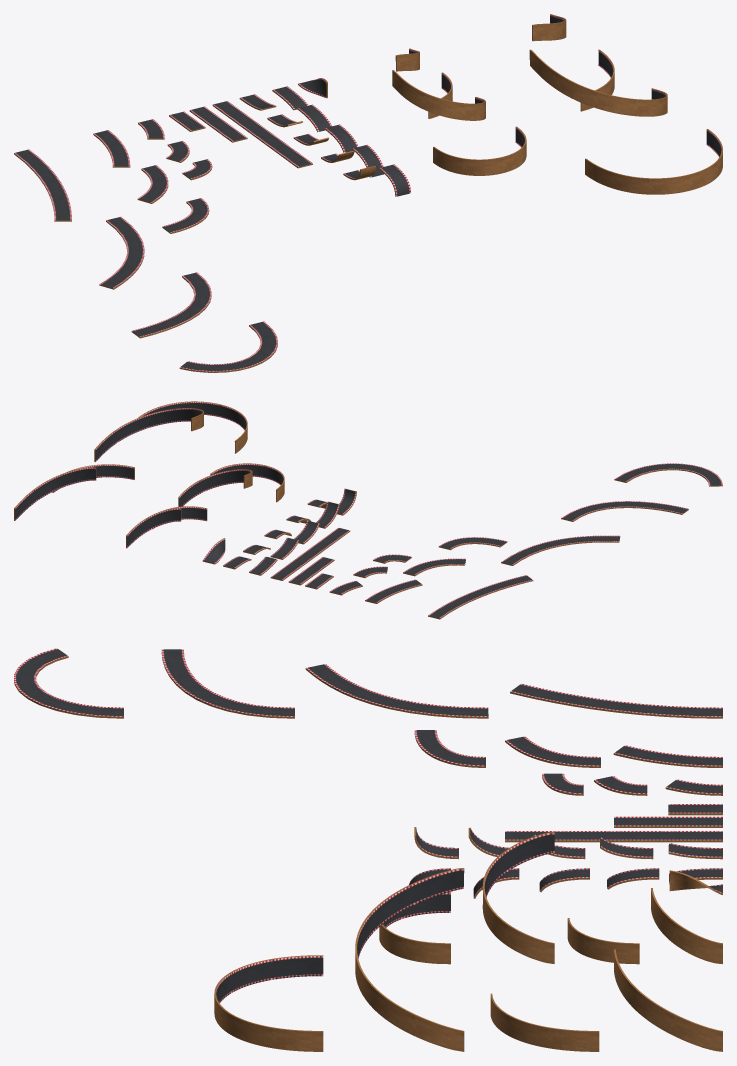
Rendered from low_poly_modular_roads.glb.
3 views of the same model, one above another, from view 1: azimuth 30°, elevation 25°; view 2: azimuth 150°, elevation 25°; view 3: azimuth 270°, elevation 25° (orthographic). The views are drawn at different scales.
Parts seen in each view (by area): view 1: Road Twist Large 180, Road Twist Up Large 180, Road Twist 180, Road Twist Up 180, Road Corner Long 4, Road Flat Long, Road Corner Long 3, Road Corner Long 2, Road Corner Long 1, Road Flat Medium, Road Corner Medium 3, Road Corner Medium 2 (+2 smaller); view 2: Road Twist Up Large 180, Road Twist Up Large 90, Road Twist Large 180, Road Twist Up 180, Road Corner Long 3, Road Corner Long 2, Road Corner Long 4, Road Corner Long 1, Road Flat Long, Road Twist Up 90, Road Twist 180, Road Twist Large 90 (+5 smaller); view 3: Road Twist Up Large 180, Road Twist Large 180, Road Twist Up 180, Road Twist Up Large 90, Road Corner Long 1, Road Corner Long 2, Road Twist 180, Road Twist Large 90, Road Corner Long 4, Road Corner Long 3, Road Flat Long, Road Twist Up 90 (+11 smaller).
Part boxes in pixels (x1,y1,x2,y2): Road Twist Large 180: (585,129,722,194); Road Twist Up Large 180: (529,49,667,116); Road Twist 180: (433,126,526,175); Road Twist Up 180: (392,70,485,120); Road Corner Long 4: (179,321,277,372); Road Flat Long: (212,101,312,168); Road Corner Long 3: (131,272,211,338); Road Corner Long 2: (99,216,144,289); Road Corner Long 1: (14,149,71,221); Road Flat Medium: (189,106,247,142); Road Corner Medium 3: (162,198,209,233); Road Corner Medium 2: (137,165,168,203); Road Twist Up Large 180: (94,408,203,461); Road Twist Up Large 90: (14,467,96,520); Road Twist Large 180: (138,401,247,453); Road Twist Up 180: (178,469,252,506); Road Corner Long 3: (561,501,688,521); Road Corner Long 2: (501,535,620,565); Road Corner Long 4: (614,463,722,486); Road Corner Long 1: (428,575,533,619); Road Flat Long: (270,527,350,580); Road Twist Up 90: (126,508,181,548); Road Twist 180: (210,463,284,502); Road Twist Large 90: (52,464,134,492); Road Twist Up Large 180: (355,868,464,1051); Road Twist Large 180: (214,955,323,1051); Road Twist Up 180: (482,832,554,963); Road Twist Up Large 90: (614,949,722,1051); Road Corner Long 1: (510,683,722,718); Road Corner Long 2: (305,664,488,718); Road Twist 180: (379,892,450,964); Road Twist Large 90: (490,993,599,1051); Road Corner Long 4: (14,648,123,718); Road Corner Long 3: (161,649,294,718); Road Flat Long: (505,831,722,842); Road Twist Up 90: (651,888,722,964).
Bounding box in the file's own units: 8.83 × 1.24 × 6.72.
2 materials, 2 textured.
